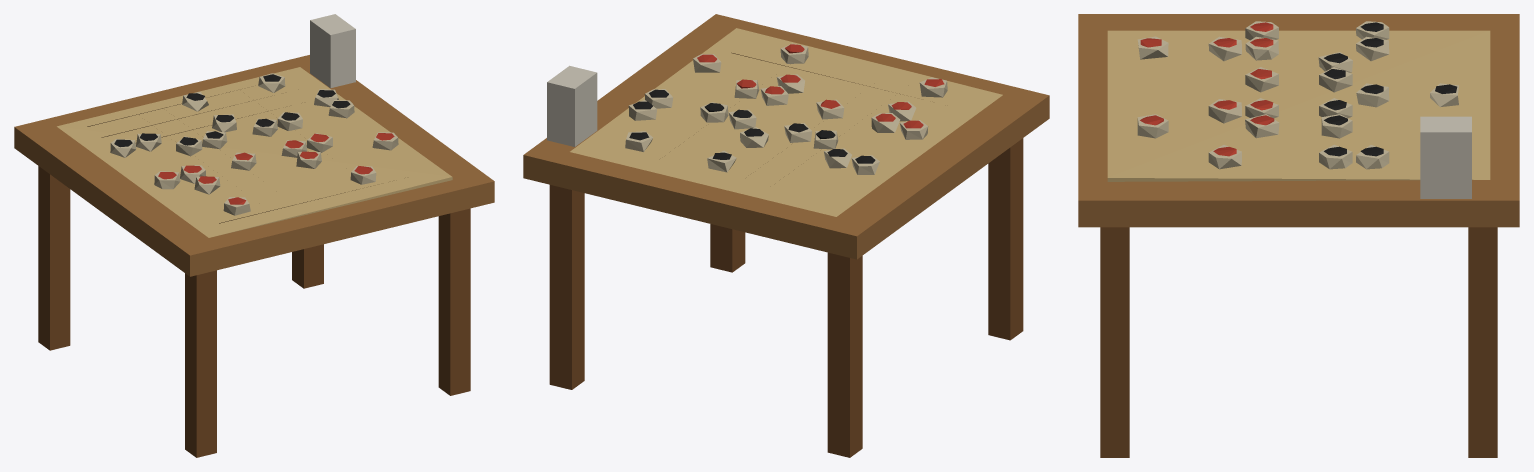
The model's file is ban_co.glb.
3 views of the same model, side by side, from view 1: azimuth 30°, elevation 25°; view 2: azimuth 150°, elevation 25°; view 3: azimuth 270°, elevation 25° (orthographic). The views are drawn at different scales.
Visible parts, largest first — view 1: ban_co; view 2: ban_co; view 3: ban_co.
Part boxes in pixels (<box>): ban_co: <box>14,14,494,457</box>; ban_co: <box>523,14,1049,457</box>; ban_co: <box>1078,14,1519,457</box>.
Bounding box in the file's own units: 0.6 × 0.5 × 0.6.
